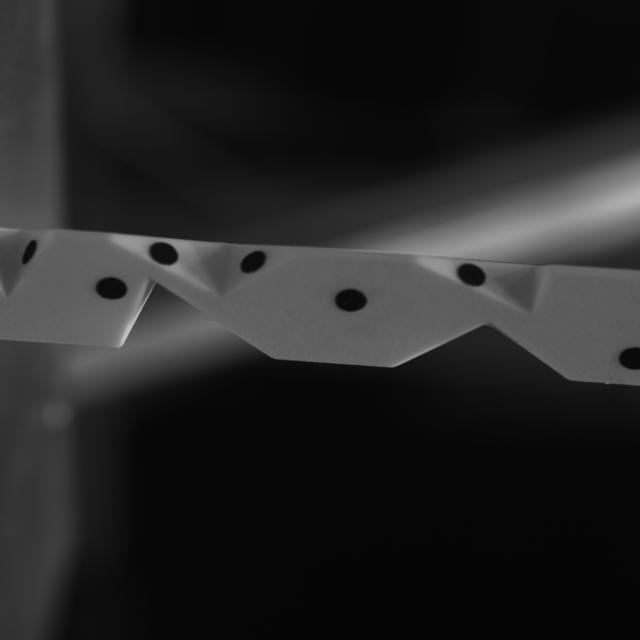circle point: (95, 276, 128, 301), (334, 288, 368, 312), (457, 263, 487, 288), (150, 242, 179, 266), (241, 251, 266, 274)
